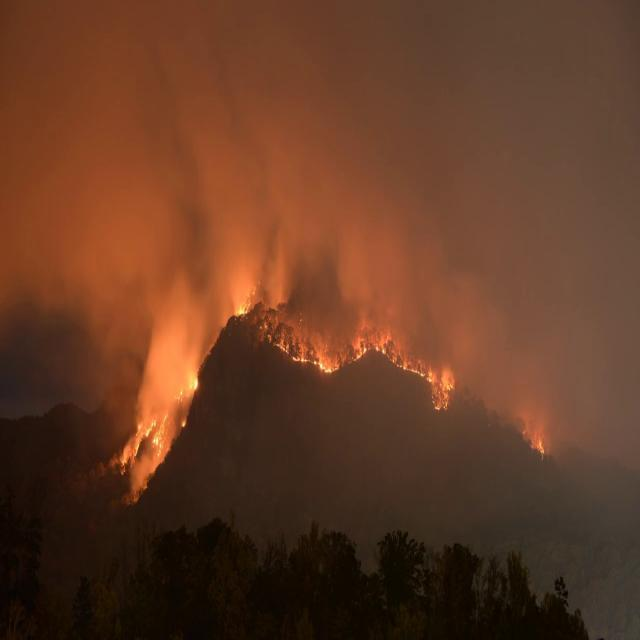Fire: (116, 412, 186, 498), (348, 341, 426, 379), (276, 338, 332, 372), (430, 368, 455, 412), (178, 369, 198, 401), (234, 288, 256, 316), (533, 433, 547, 457)
Smoke: (202, 6, 554, 442), (0, 0, 195, 397), (550, 0, 640, 462), (116, 255, 206, 502)
